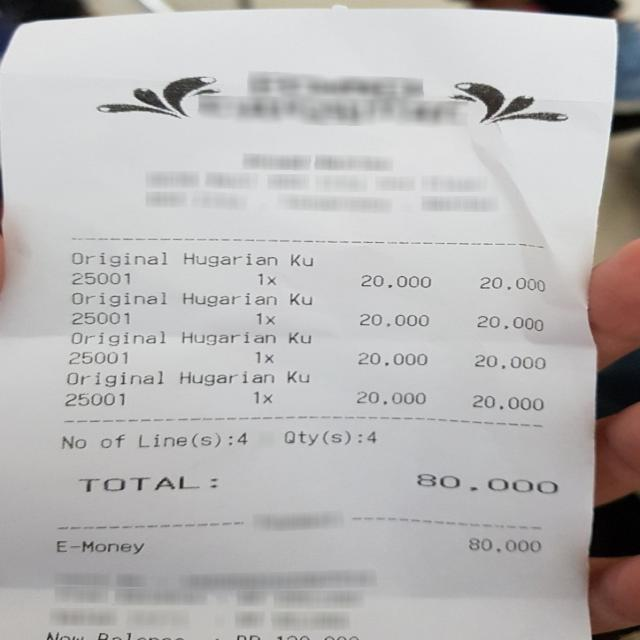text: (413, 473, 557, 493), (78, 475, 217, 491), (137, 431, 245, 449), (284, 428, 376, 445), (65, 370, 162, 386), (70, 251, 165, 266), (182, 252, 276, 267), (178, 370, 272, 385), (70, 330, 163, 345), (72, 292, 165, 306), (182, 331, 274, 344), (55, 540, 142, 553), (182, 293, 274, 305), (479, 275, 543, 291), (467, 537, 540, 551), (471, 394, 542, 408), (476, 315, 542, 330), (474, 354, 544, 368), (356, 390, 425, 404), (357, 352, 425, 366), (360, 313, 428, 326), (64, 392, 124, 406), (361, 274, 429, 286), (70, 272, 132, 285), (67, 351, 125, 363), (70, 311, 127, 323), (98, 632, 182, 639), (59, 434, 84, 448), (98, 433, 122, 447), (46, 631, 82, 639), (290, 253, 312, 265), (256, 273, 276, 285), (290, 292, 310, 304), (285, 370, 306, 381), (287, 332, 309, 342), (255, 312, 273, 324), (253, 391, 269, 402), (276, 634, 308, 639), (255, 352, 271, 361), (324, 635, 358, 639)
